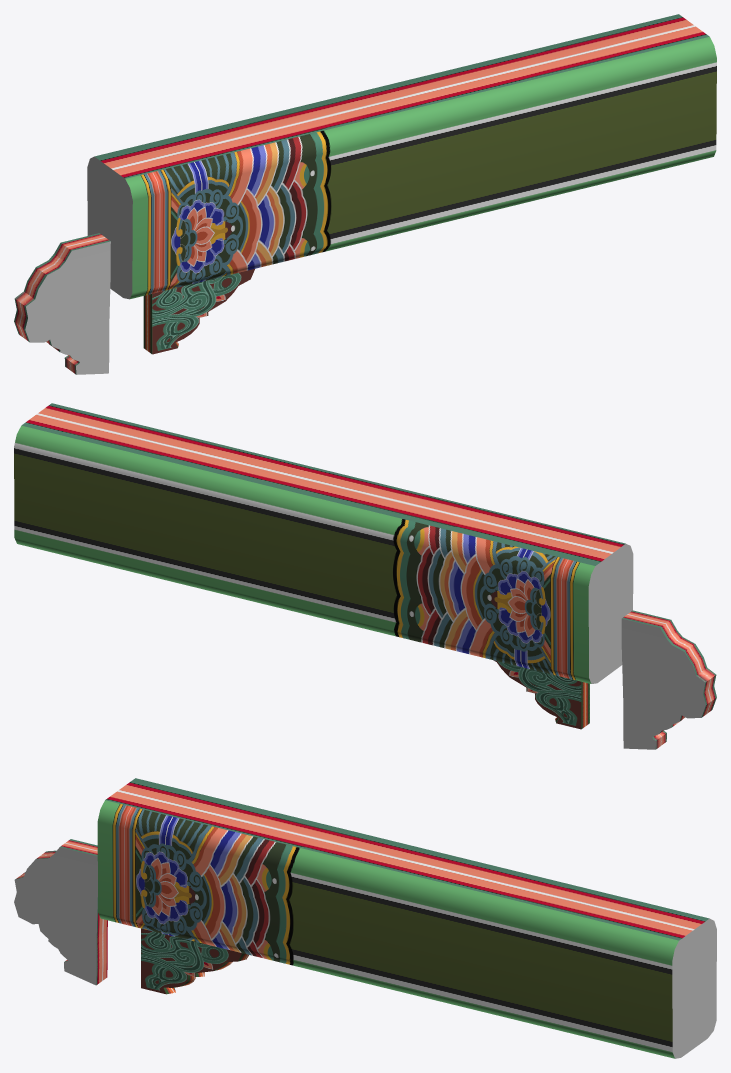
Rendered from SM_R_Beam_20.fbx.
The picture shows the model from 3 angles, top to bottom: view 1: azimuth 30°, elevation 25°; view 2: azimuth 150°, elevation 25°; view 3: azimuth 330°, elevation 25°; orthographic projection.
Visible parts, largest first — view 1: SM_R_Beam_20_LOD0; view 2: SM_R_Beam_20_LOD0; view 3: SM_R_Beam_20_LOD0.
Boxes of the visible parts, x1,y1,x2,y2 form: SM_R_Beam_20_LOD0: (14, 14, 716, 374); SM_R_Beam_20_LOD0: (14, 403, 716, 749); SM_R_Beam_20_LOD0: (14, 778, 716, 1058).
Bounding box in the file's own units: 357 × 41.44 × 97.49.
